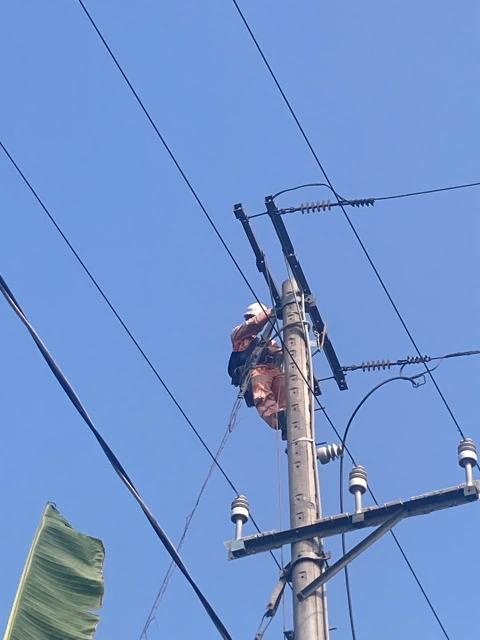harness: (221, 347, 295, 371)
helmet: (241, 295, 269, 322)
